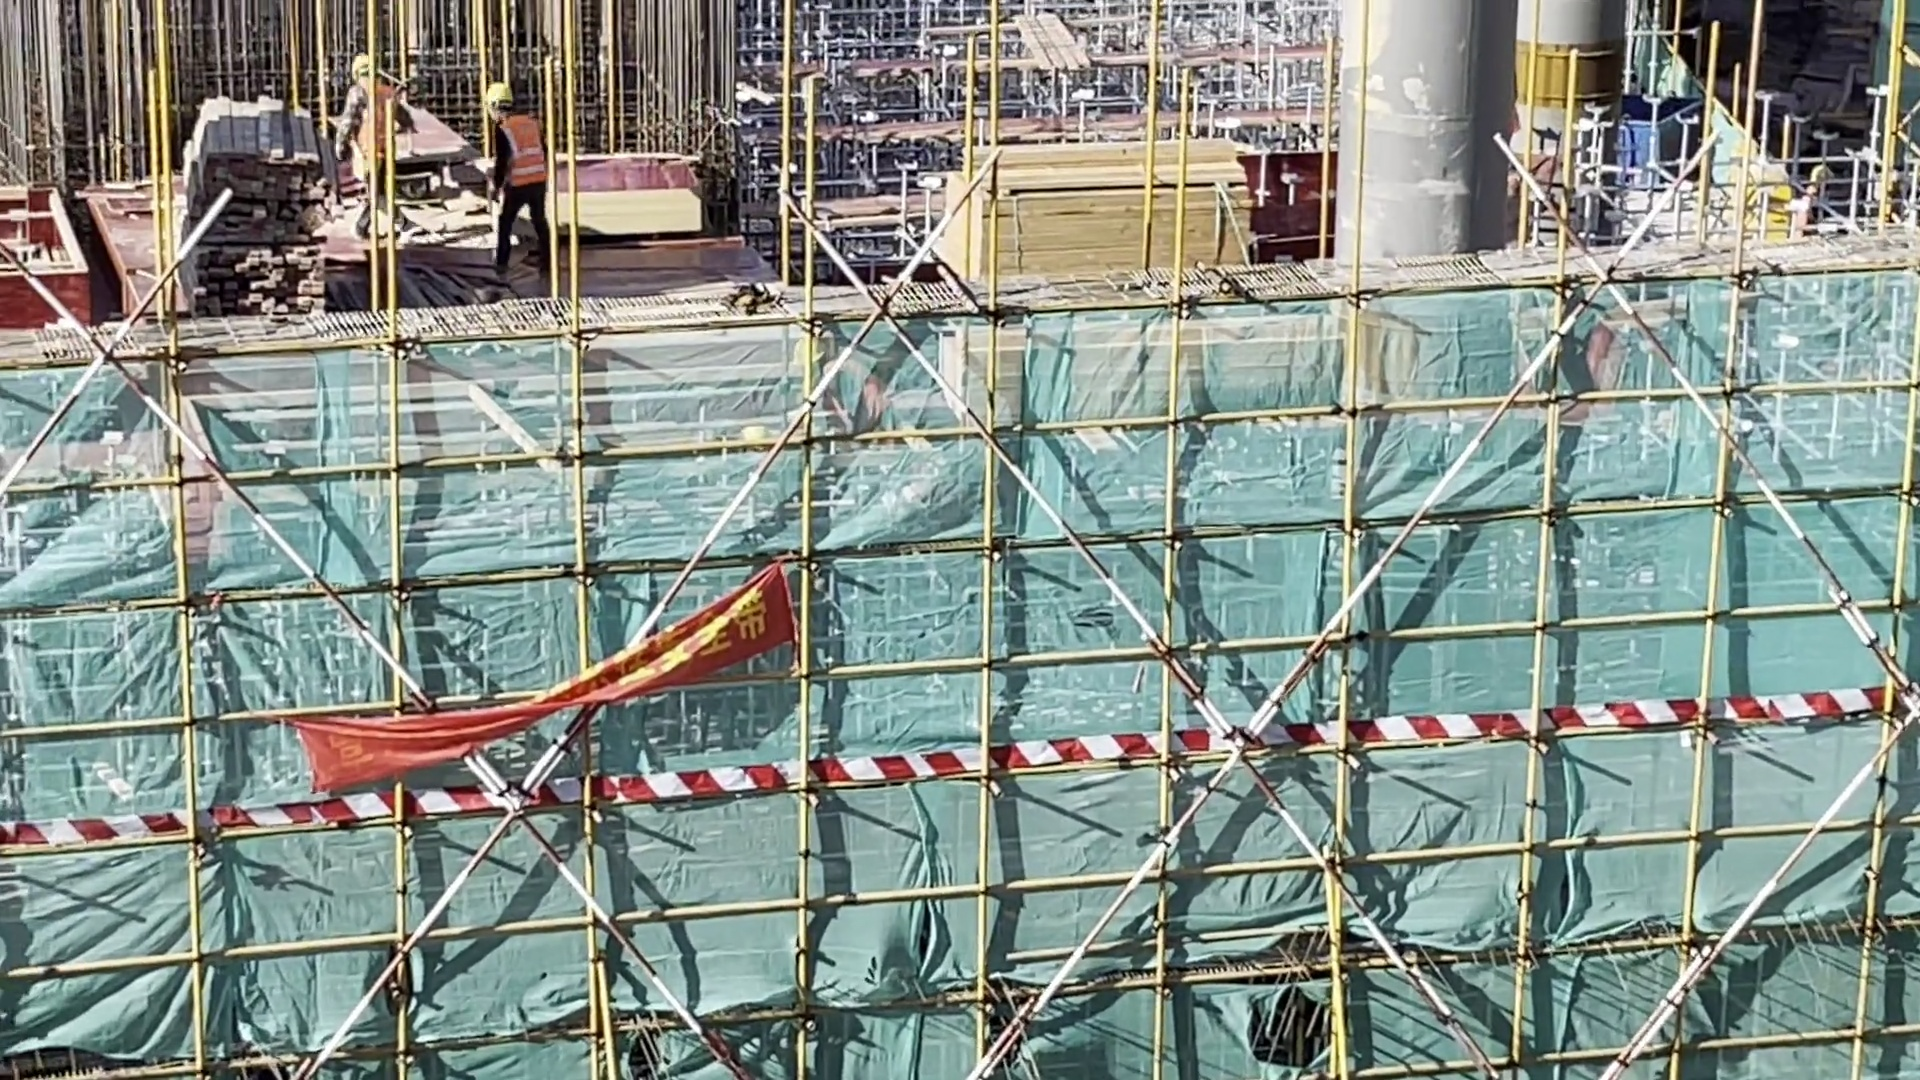ebox: (1732, 150, 1796, 254)
helmet: (348, 41, 391, 101), (478, 75, 517, 137)
person: (485, 79, 562, 311), (328, 43, 415, 206)
slogan: (300, 572, 803, 804)
vest: (500, 117, 561, 194), (353, 91, 409, 169)
wood: (930, 127, 1245, 280), (182, 85, 324, 326)
